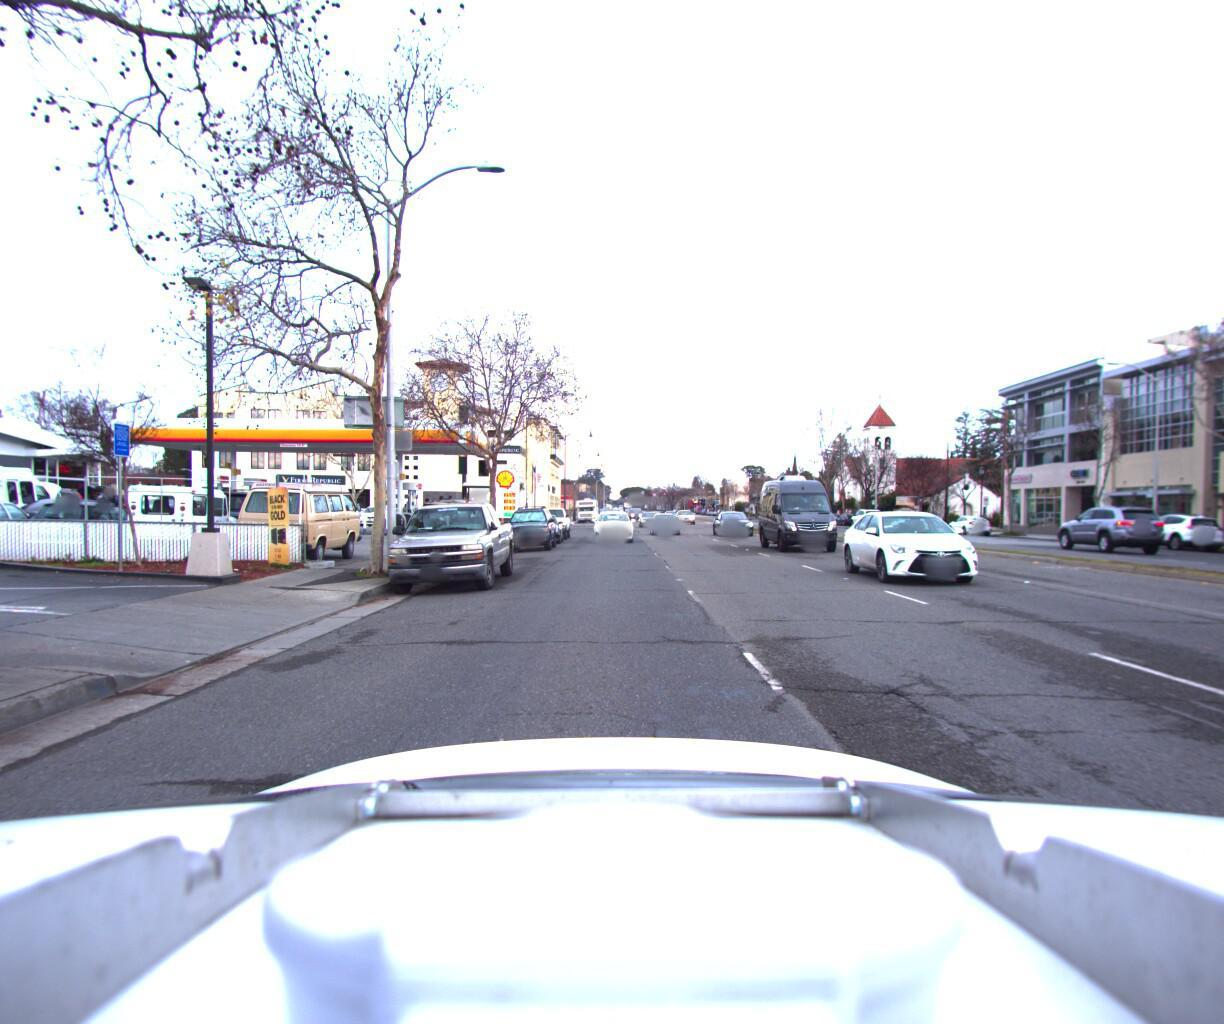car: (379, 494, 515, 592), (839, 507, 998, 589), (228, 474, 368, 563), (15, 494, 152, 562), (194, 485, 319, 552), (0, 493, 152, 548), (755, 465, 847, 552), (1041, 500, 1149, 549), (0, 485, 109, 528), (1118, 509, 1224, 551), (0, 491, 51, 558), (497, 500, 557, 549), (588, 504, 639, 543), (433, 492, 476, 531), (521, 509, 562, 543), (532, 503, 571, 538), (711, 506, 760, 533), (939, 510, 993, 533), (650, 507, 684, 532), (356, 501, 393, 524), (842, 504, 882, 524), (638, 506, 661, 524), (675, 505, 696, 521)
other_vehicle: (0, 445, 91, 549)
